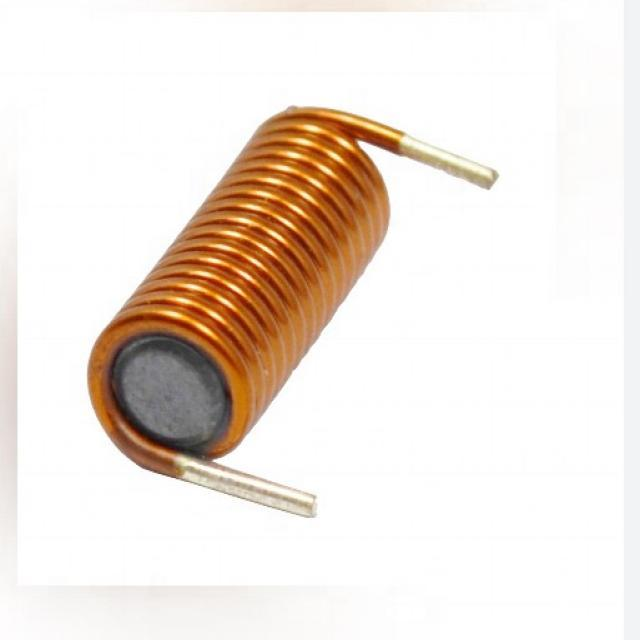Inductor: (89, 108, 498, 517)
